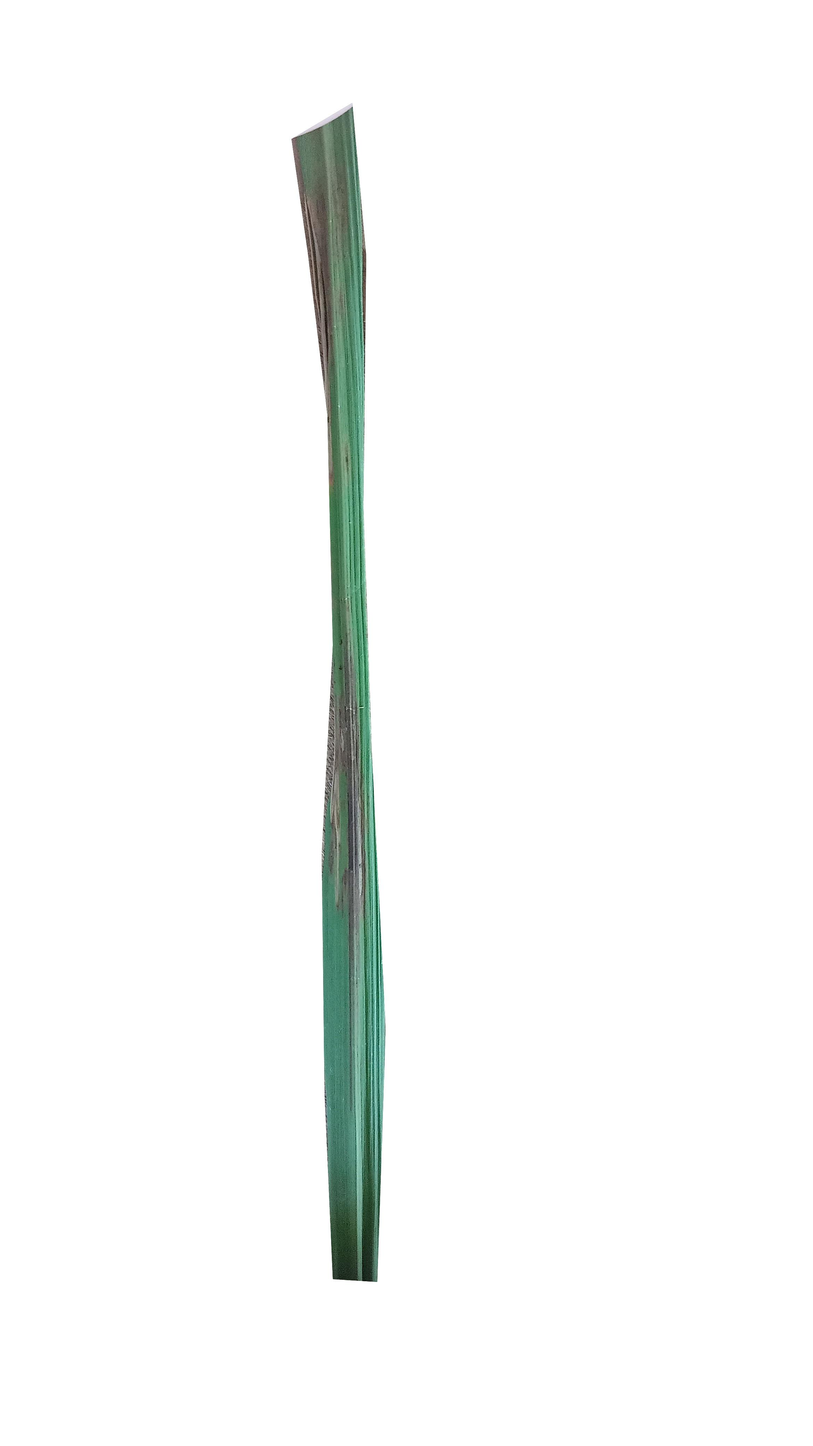Rice blast: (299, 118, 372, 341), (323, 692, 386, 911)
